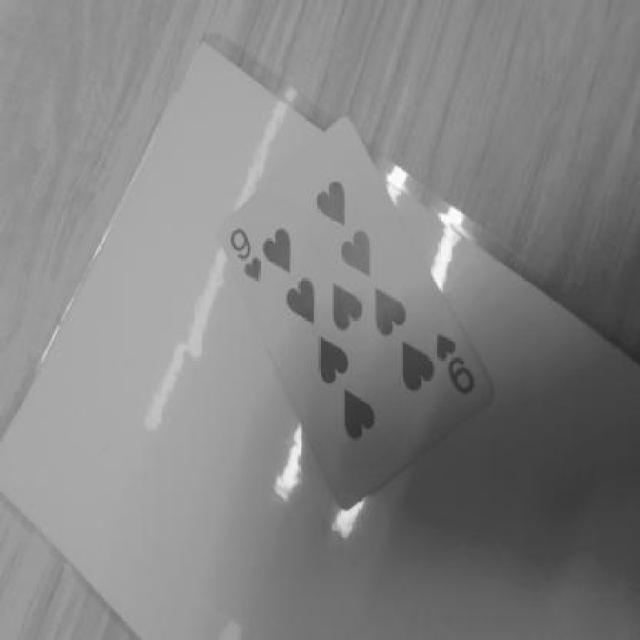9H: (430, 322, 485, 400), (221, 230, 264, 285)
